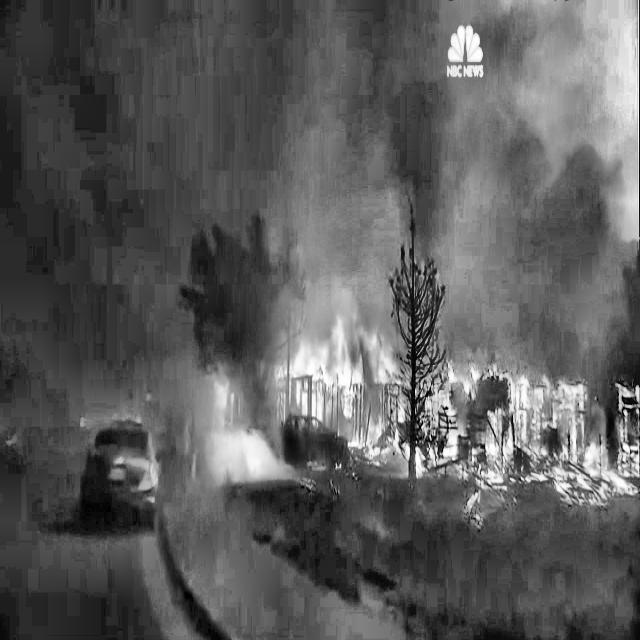fire: (177, 257, 640, 615)
